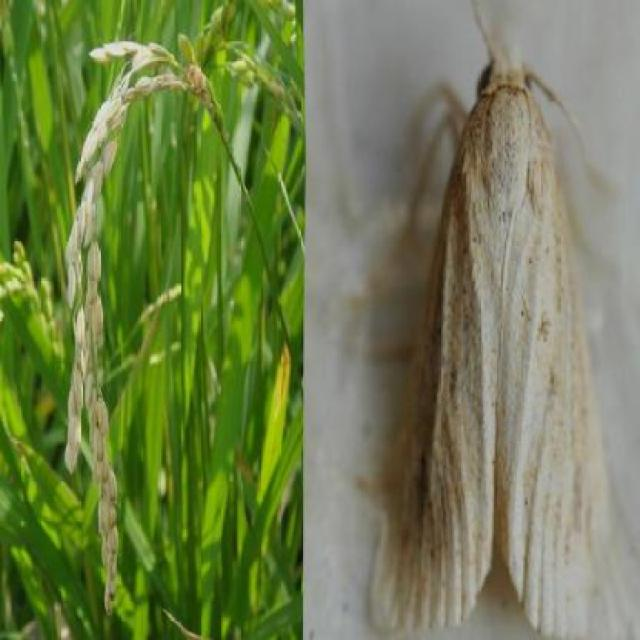stem-borer: (368, 21, 625, 640)
